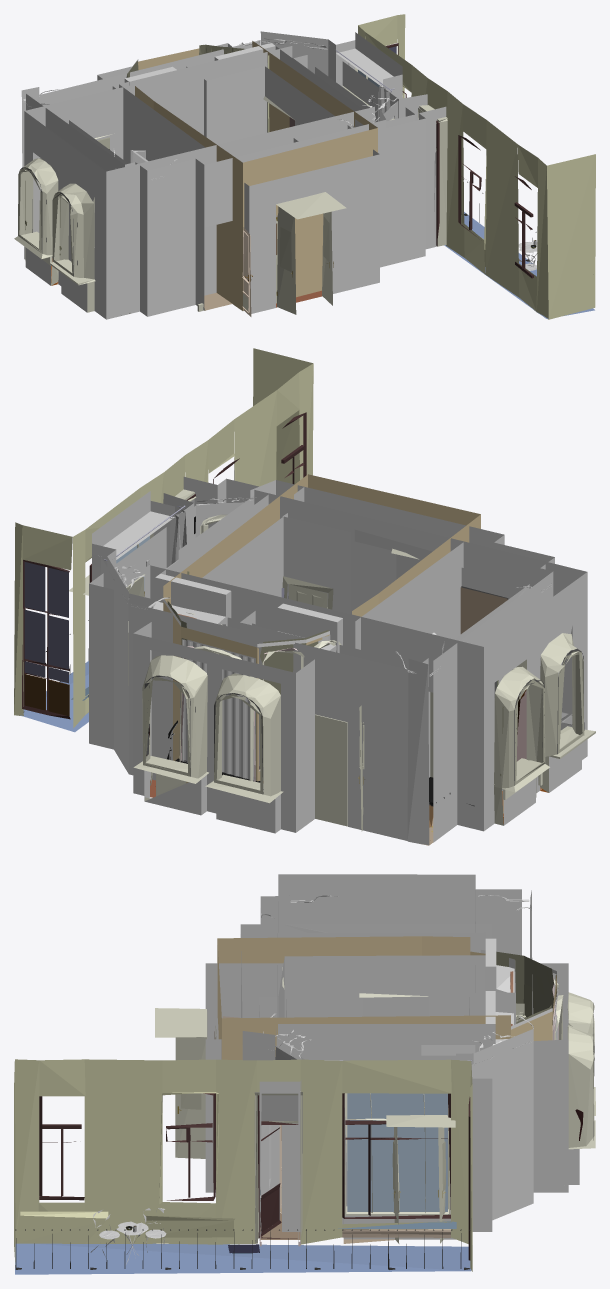
Rendered from overview-cutaway.glb.
The picture shows the model from 3 angles, top to bottom: view 1: azimuth 30°, elevation 25°; view 2: azimuth 150°, elevation 25°; view 3: azimuth 270°, elevation 25°; orthographic projection. The views are drawn at different scales.
Parts seen in each view (by area): view 1: web-batch-2237, web-batch-69, web-batch-134, observed-plaster-wall-10, web-batch-9, north-balcony-return-soffit, web-batch-6, web-batch-73, web-batch-122, web-batch-20, web-batch-162, web-instance-76_0 (+25 smaller); view 2: observed-plaster-wall-0, web-batch-2237, web-batch-12, web-batch-6 (×2), web-batch-9, web-batch-15, web-batch-138, observed-plaster-wall-16, web-batch-45 (×2), web-batch-75 (×2), web-batch-2, web-instance-297_0 (+33 smaller); view 3: web-batch-2237, web-batch-2234, overview-1-wall-11, web-batch-49, observed-plaster-wall-16, observed-plaster-wall-1, web-batch-85 (×3), web-batch-0 (×2), web-batch-4, web-batch-59, web-batch-1417, web-batch-162 (+20 smaller).
Part boxes in pixels (x1,y1,x2,y2): web-batch-2237: (358,14,595,319); web-batch-69: (249,154,379,313); web-batch-134: (106,106,374,319); observed-plaster-wall-10: (147,119,354,316); web-batch-9: (14,158,95,312); north-balcony-return-soffit: (363,118,425,267); web-batch-6: (24,111,106,319); web-batch-73: (243,128,377,310); web-batch-122: (110,46,292,159); web-batch-20: (206,66,264,144); web-batch-162: (153,101,242,310); web-instance-76_0: (276,192,346,314); observed-plaster-wall-0: (129,597,415,840); web-batch-2237: (14,348,313,728); web-batch-12: (133,633,295,833); web-batch-6 (×2): (231,572,587,830); web-batch-9: (494,633,595,825); web-batch-15: (133,655,283,803); web-batch-138: (377,621,483,831); observed-plaster-wall-16: (429,571,553,842); web-batch-45 (×2): (148,516,283,624); web-batch-75 (×2): (89,477,408,749); web-batch-2: (355,542,463,649); web-instance-297_0: (24,562,68,683); web-batch-2237: (14,1059,472,1271); web-batch-2234: (15,1243,471,1274); overview-1-wall-11: (344,1093,450,1215); web-batch-49: (284,955,485,1017); observed-plaster-wall-16: (289,889,529,955); observed-plaster-wall-1: (471,1029,533,1220); web-batch-85 (×3): (259,936,492,1243); web-batch-0 (×2): (276,1024,495,1059); web-batch-4: (205,963,568,1039); web-batch-59: (533,1039,568,1192); web-batch-1417: (39,1093,470,1260); web-batch-162: (217,936,421,963).
Size of the model in its own units: 10.73 by 4.04 by 11.41.
